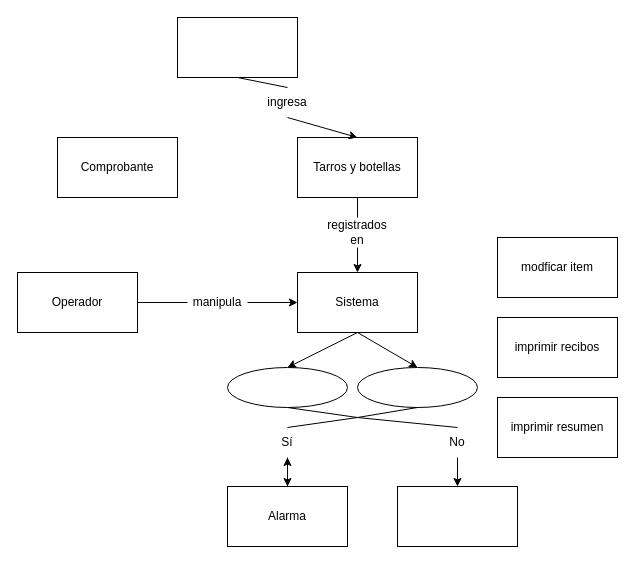
This 635x564 diagram has some shape labels left out. The centre of each missing label's shape, as x and y in pixels:
impresora sin papel?: point 417,387
item atascado?: point 287,387
Nada: point 457,516
Usuario: point 237,47
